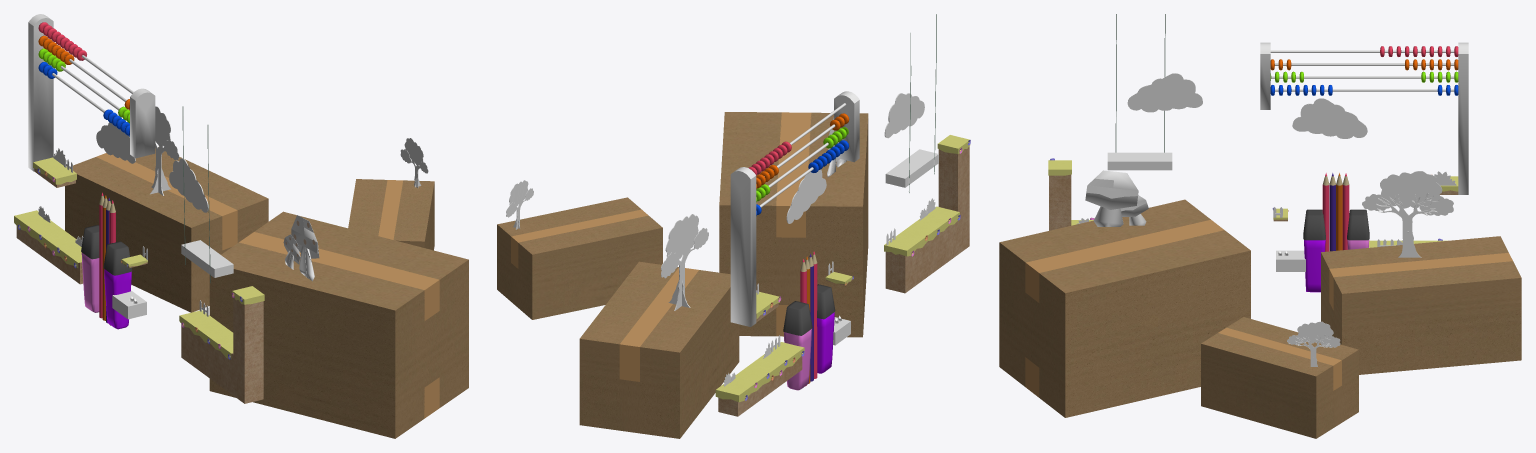
Rendered from Pantalla_4_Def.fbx.
The picture shows the model from 3 angles, left to right: view 1: azimuth 30°, elevation 25°; view 2: azimuth 150°, elevation 25°; view 3: azimuth 270°, elevation 25°; orthographic projection. The views are drawn at different scales.
Visible parts, largest first — view 1: Caja_1, Cube, Pantalla_4, Cube.003, Cube.001, Pantalla_4.002, Pantalla_4.004, Arbol1.001, Subrayador_Tapón.001, Subrayador_Tapón, Cylinder.001, Nube.003 (+5 smaller); view 2: Cube, Caja_1, Cube.001, Cube.003, Pantalla_4, Pantalla_4.002, Arbol1.001, Subrayador_Tapón, Pantalla_4.004, Subrayador_Tapón.001, Cylinder.001, Nube.003 (+3 smaller); view 3: Caja_1, Cube, Cube.001, Arbol1.001, Cube.003, Plane.046, Nube.003, Nube.002, Cylinder.001, Pantalla_4.004, Subrayador_Tapón.001, Pantalla_4 (+3 smaller).
Boxes of the visible parts, x1,y1,x2,y2 form: Caja_1: [209, 211, 468, 438]; Cube: [65, 147, 268, 312]; Pantalla_4: [16, 168, 263, 403]; Cube.003: [28, 14, 155, 171]; Cube.001: [348, 179, 434, 250]; Pantalla_4.002: [14, 157, 233, 359]; Pantalla_4.004: [112, 240, 233, 319]; Arbol1.001: [150, 106, 428, 195]; Subrayador_Tapón.001: [103, 241, 132, 329]; Subrayador_Tapón: [81, 225, 99, 312]; Cylinder.001: [99, 192, 115, 325]; Nube.003: [169, 158, 208, 212]; Cube: [579, 261, 739, 438]; Caja_1: [719, 112, 868, 337]; Cube.001: [497, 197, 662, 319]; Cube.003: [730, 91, 859, 326]; Pantalla_4: [718, 146, 969, 416]; Pantalla_4.002: [715, 206, 959, 402]; Arbol1.001: [506, 180, 708, 310]; Subrayador_Tapón: [783, 301, 812, 390]; Pantalla_4.004: [833, 149, 938, 345]; Subrayador_Tapón.001: [817, 284, 835, 373]; Cylinder.001: [800, 251, 817, 386]; Nube.003: [884, 93, 924, 138]; Caja_1: [999, 199, 1250, 417]; Cube: [1321, 236, 1521, 374]; Cube.001: [1201, 317, 1358, 438]; Arbol1.001: [1287, 171, 1453, 366]; Cube.003: [1260, 42, 1468, 194]; Plane.046: [1085, 170, 1138, 226]; Nube.003: [1127, 73, 1202, 112]; Nube.002: [1292, 98, 1367, 138]; Cylinder.001: [1322, 173, 1349, 251]; Pantalla_4.004: [1107, 152, 1305, 271]; Subrayador_Tapón.001: [1303, 209, 1325, 292]; Pantalla_4: [1049, 174, 1458, 230].
Size of the model in its own units: 7100 by 6181 by 9992.
